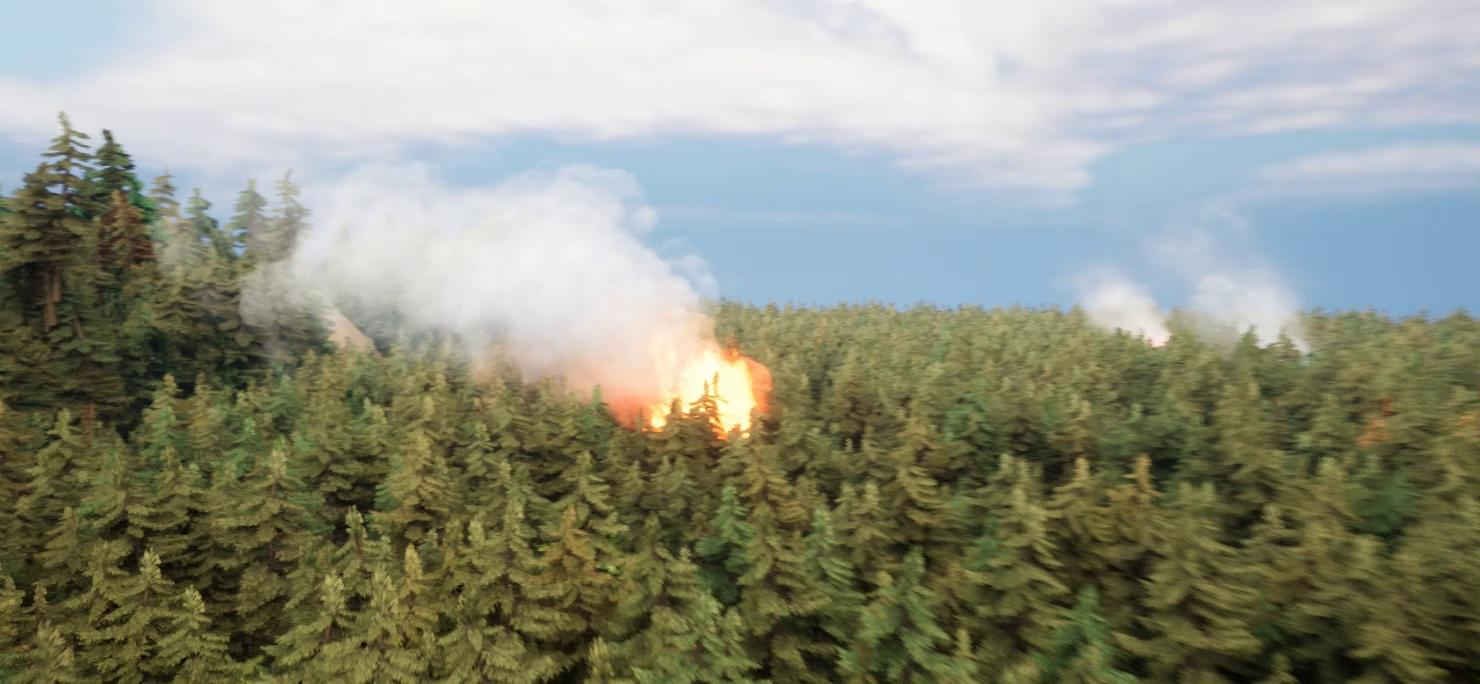fire: (620, 353, 761, 443)
smoke: (244, 147, 741, 411), (1067, 217, 1321, 355)
